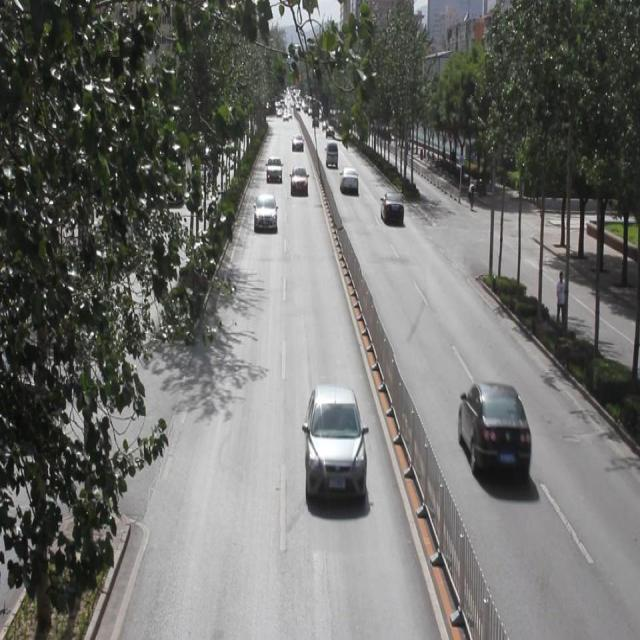car: (304, 385, 364, 503), (456, 381, 528, 479), (254, 194, 278, 232), (379, 192, 403, 226), (290, 166, 309, 197), (339, 167, 359, 196), (267, 156, 282, 181), (291, 134, 304, 153)
truck: (324, 140, 339, 169)
